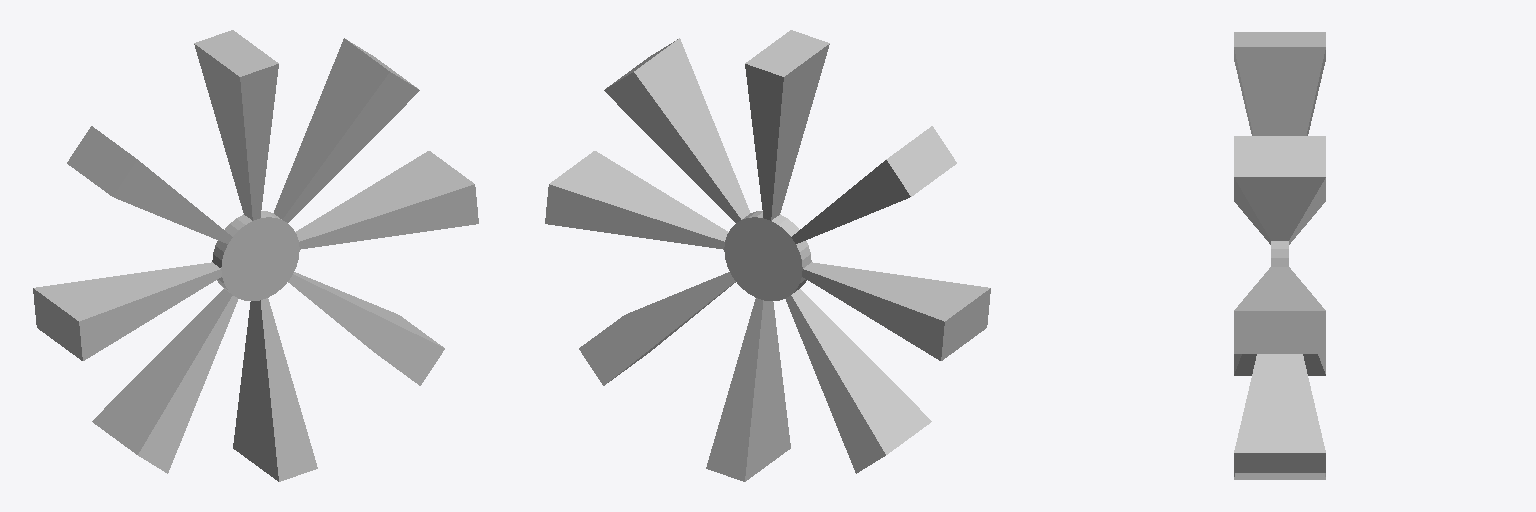
The model's file is HovercraftBlade.obj.
3 renders of one model, left to right at view 1: azimuth 30°, elevation 25°; view 2: azimuth 150°, elevation 25°; view 3: azimuth 270°, elevation 25°, orthographic.
Visible parts, largest first — view 1: Cylinder; view 2: Cylinder; view 3: Cylinder.
Boxes of the visible parts, x1=… form: Cylinder: x1=33, y1=30, x2=478, y2=481; Cylinder: x1=545, y1=30, x2=990, y2=481; Cylinder: x1=1234, y1=32, x2=1325, y2=479.
Size of the model in its own units: 2.04 by 2.04 by 0.408.